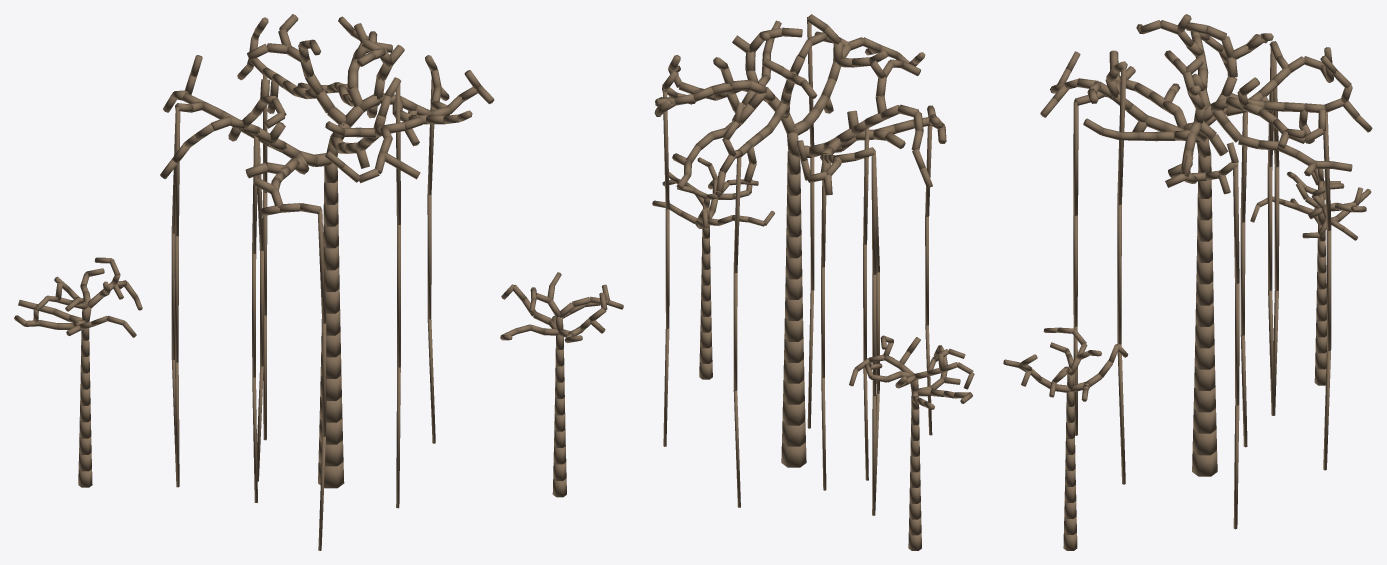
File: banyan-neem.glb
3 views of the same model, side by side, from view 1: azimuth 30°, elevation 25°; view 2: azimuth 150°, elevation 25°; view 3: azimuth 270°, elevation 25° (orthographic). The views are drawn at different scales.
Visible parts, largest first — view 1: BanyanTrunk, NeemTrunk.0, NeemTrunk.1; view 2: BanyanTrunk, NeemTrunk.0, NeemTrunk.1; view 3: BanyanTrunk, NeemTrunk.1, NeemTrunk.0.
Part boxes in pixels (x1,y1,x2,y2): BanyanTrunk: [160, 14, 494, 550]; NeemTrunk.0: [14, 257, 142, 487]; NeemTrunk.1: [500, 272, 623, 497]; BanyanTrunk: [654, 14, 946, 515]; NeemTrunk.0: [849, 335, 974, 550]; NeemTrunk.1: [652, 157, 774, 379]; BanyanTrunk: [1040, 14, 1372, 529]; NeemTrunk.1: [1003, 327, 1128, 550]; NeemTrunk.0: [1250, 168, 1371, 385].
Bounding box in the file's own units: 8.94 × 8.27 × 6.32.
